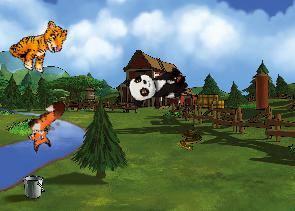fox: (17, 97, 79, 155)
panda: (124, 62, 190, 109)
tiger: (5, 10, 71, 79)
